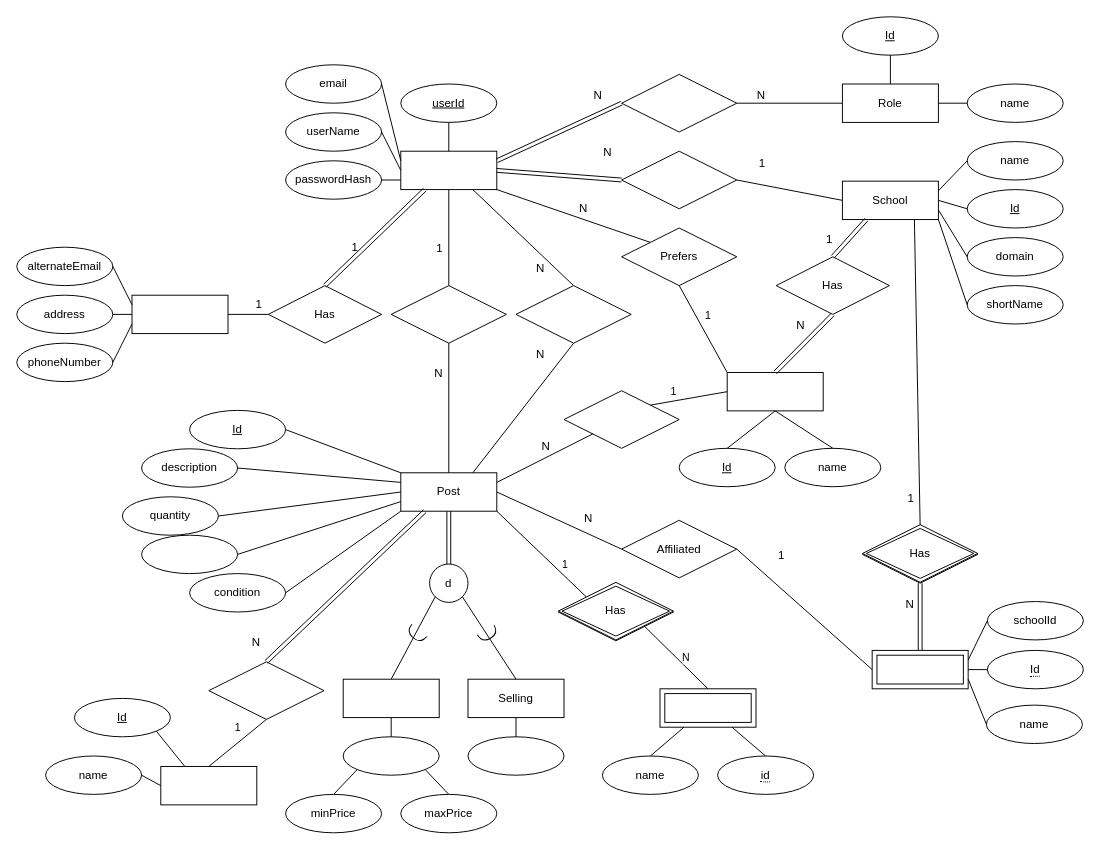
This 1100x850 diagram has some shape labels left out. Each missing label, with the box of its shape:
Attends: (621, 150, 737, 209)
Campus: (726, 372, 823, 411)
Categorized: (208, 661, 324, 719)
Category: (160, 766, 257, 805)
Contact Information: (131, 294, 228, 334)
Course: (871, 649, 968, 689)
Favourites: (515, 285, 631, 343)
Images: (659, 688, 756, 727)
Located: (563, 390, 679, 448)
Looking: (342, 678, 439, 718)
price: (467, 736, 564, 775)
priceRange: (342, 736, 439, 775)
title: (141, 534, 238, 574)
User: (400, 150, 497, 190)
UserPosts: (390, 285, 506, 343)
UserRoles: (621, 73, 737, 132)
